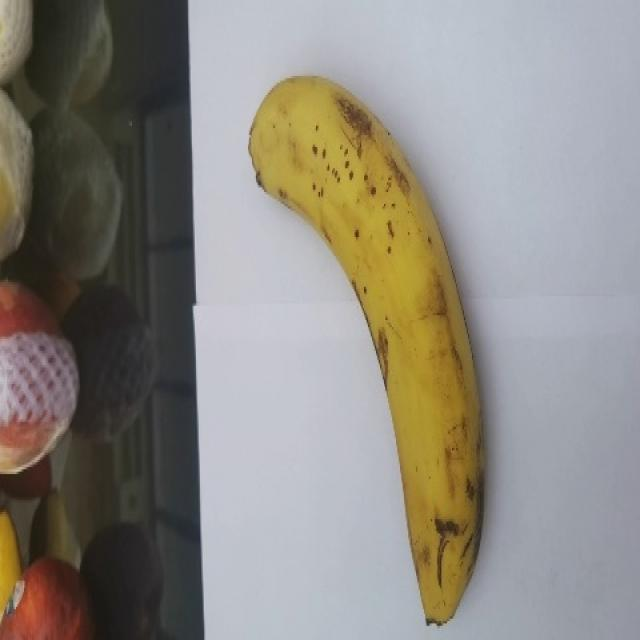Banana: (247, 74, 486, 626)
